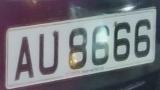6: (89, 19, 113, 72), (111, 16, 133, 69), (133, 14, 153, 66)
8: (66, 21, 90, 76)
A: (12, 32, 36, 86)
U: (35, 27, 62, 81)
